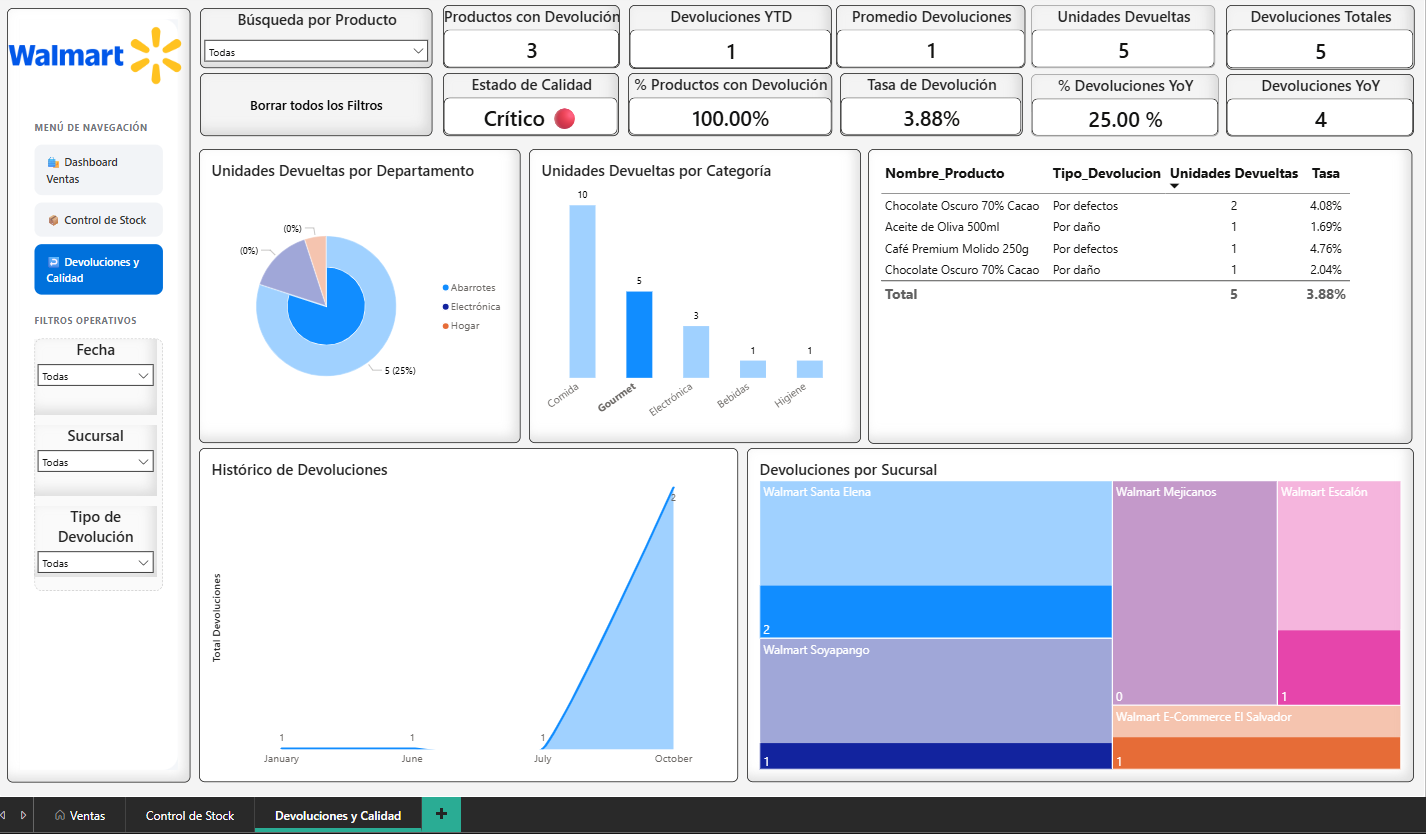

Layout of this report page (visuals, bound fields, positions):
{"tool":"powerbi","page":{"name":"Devoluciones y Calidad","canvas":[1920,1080],"ordinal":2},"visuals":[{"type":"htmlContent443BE3AD55E043BF878BED274D3A6865","fields":{"content":["Medidas.Barra_Lateral_Devoluciones"]},"box":[10.9,17.2,247,1042.9],"z":0},{"type":"cardVisual","title":"Devoluciones Totales","fields":{"Data":["Medidas.Total Devoluciones"]},"box":[1652.4,13.9,253.7,86.9],"z":1000},{"type":"cardVisual","title":"Unidades Devueltas","fields":{"Data":["Medidas.Total Unidades Devueltas"]},"box":[1390,13.9,248.5,85.1],"z":2000},{"type":"cardVisual","title":"Productos con Devolución","fields":{"Data":["Medidas.Productos con Devoluciones"]},"box":[597.7,13.9,238,85.1],"z":3000},{"type":"cardVisual","title":"Devoluciones YTD","fields":{"Data":["Medidas.Devoluciones YTD"]},"box":[848.4,13.5,273.4,86.2],"z":4000},{"type":"tableEx","fields":{"Values":["vDim_Productos.Nombre_Producto","vFact_Devoluciones.Tipo_Devolucion","Medidas.Total Unidades Devueltas","Medidas.Tasa de Devolucion"]},"box":[1170.6,206.9,732.6,397],"z":5000},{"type":"columnChart","title":"Unidades Devueltas por Categoría","fields":{"Category":["vDim_Productos.Categoria"],"Y":["Medidas.Total Unidades Devueltas"]},"box":[714.1,206.8,446.6,396.2],"z":6000},{"type":"pieChart","title":"Unidades Devueltas por Departamento","fields":{"Category":["vDim_Departamentos.Nombre_Departamento"],"Y":["Medidas.Total Unidades Devueltas"]},"box":[269.3,206.8,432.7,396.2],"z":7000},{"type":"lineChart","title":"Histórico de Devoluciones","fields":{"Category":["vDim_Calendario.Anio Jerarquía.Anio","vDim_Calendario.Anio Jerarquía.Nombre_Mes"],"Y":["Medidas.Total Devoluciones"]},"box":[269.8,610.6,726.5,449.7],"z":8000},{"type":"treemap","title":"Devoluciones por Sucursal","fields":{"Group":["vDim_Tiendas.Nombre_Tienda"],"Values":["Medidas.Total Devoluciones"]},"box":[1006.7,610.6,897.7,449.7],"z":9000},{"type":"actionButton","title":"Ventas","box":[39.8,195.5,190.3,83],"z":10000},{"type":"image","box":[0,13.9,258,135],"z":11000},{"type":"actionButton","title":"Ventas","box":[34.6,278.5,190.3,48.4],"z":12000},{"type":"actionButton","title":"Ventas","box":[34.6,342.5,190.3,65.7],"z":13000},{"type":"slicer","title":"Fecha","fields":{"Values":["vDim_Calendario.Anio","vDim_Calendario.Nombre_Mes"]},"box":[46.9,462.8,165.7,101.6],"z":14000},{"type":"slicer","title":"Sucursal","fields":{"Values":["vDim_Tiendas.Nombre_Tienda"]},"box":[46.9,578.5,165.7,95.4],"z":15000},{"type":"cardVisual","title":"Devoluciones YoY","fields":{"Data":["Medidas.Devoluciones Año Anterior"]},"box":[1652.3,106.4,253.1,84.4],"z":16000},{"type":"cardVisual","title":"% Devoluciones YoY","fields":{"Data":["Medidas.Crecimiento Devoluciones YoY %"]},"box":[1390,106.4,253.1,84.4],"z":17000},{"type":"cardVisual","title":"Tasa de Devolución","fields":{"Data":["Medidas.Tasa de Devolucion"]},"box":[1133,105.5,245.6,84.8],"z":18000},{"type":"cardVisual","title":"% Productos con Devolución","fields":{"Data":["Medidas.% Productos con Devolucion"]},"box":[847.6,105.5,275,84.8],"z":19000},{"type":"cardVisual","title":"Estado de Calidad","fields":{"Data":["Medidas.Estado de Calidad"]},"box":[598.5,105.5,237,84.8],"z":20000},{"type":"cardVisual","title":"Promedio Devoluciones","fields":{"Data":["Medidas.Promedio Unidades por Devolucion"]},"box":[1127.7,13.9,255.4,85.1],"z":21000},{"type":"slicer","title":"Búsqueda por Producto","fields":{"Values":["vDim_Productos.Nombre_Producto"]},"box":[270.1,17.3,313.4,81.4],"z":22000},{"type":"actionButton","box":[270.1,105.6,313.4,84.8],"z":23000},{"type":"slicer","title":"Tipo de Devolución","fields":{"Values":["vFact_Devoluciones.Tipo_Devolucion"]},"box":[46.6,687.8,165.9,95.1],"z":24000}]}

Visuals, with their boxes on the page's 1920x1080 design canvas (x1, y1, x2, y2). These are canvas units, not pixel positions in the 1426x834 screenshot, which may show the page scaled, cropped or inside an application window:
htmlContent443BE3AD55E043BF878BED274D3A6865 - Medidas.Barra_Lateral_Devoluciones: crop(11, 17, 258, 1060)
"Devoluciones Totales" cardVisual: crop(1652, 14, 1906, 101)
"Unidades Devueltas" cardVisual: crop(1390, 14, 1638, 99)
"Productos con Devolución" cardVisual: crop(598, 14, 836, 99)
"Devoluciones YTD" cardVisual: crop(848, 14, 1122, 100)
tableEx - vDim_Productos.Nombre_Producto x vFact_Devoluciones.Tipo_Devolucion: crop(1171, 207, 1903, 604)
"Unidades Devueltas por Categoría" columnChart: crop(714, 207, 1161, 603)
"Unidades Devueltas por Departamento" pieChart: crop(269, 207, 702, 603)
"Histórico de Devoluciones" lineChart: crop(270, 611, 996, 1060)
"Devoluciones por Sucursal" treemap: crop(1007, 611, 1904, 1060)
"Ventas" actionButton: crop(40, 196, 230, 278)
image: crop(0, 14, 258, 149)
"Ventas" actionButton: crop(35, 278, 225, 327)
"Ventas" actionButton: crop(35, 342, 225, 408)
"Fecha" slicer: crop(47, 463, 213, 564)
"Sucursal" slicer: crop(47, 578, 213, 674)
"Devoluciones YoY" cardVisual: crop(1652, 106, 1905, 191)
"% Devoluciones YoY" cardVisual: crop(1390, 106, 1643, 191)
"Tasa de Devolución" cardVisual: crop(1133, 106, 1379, 190)
"% Productos con Devolución" cardVisual: crop(848, 106, 1123, 190)
"Estado de Calidad" cardVisual: crop(598, 106, 836, 190)
"Promedio Devoluciones" cardVisual: crop(1128, 14, 1383, 99)
"Búsqueda por Producto" slicer: crop(270, 17, 584, 99)
actionButton: crop(270, 106, 584, 190)
"Tipo de Devolución" slicer: crop(47, 688, 212, 783)
